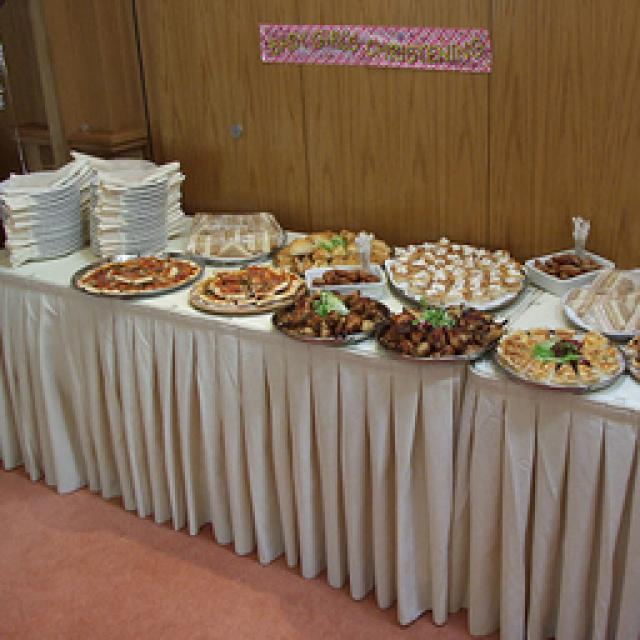floor -X: (2, 288, 635, 635)
food procesor: (385, 238, 518, 305), (495, 325, 615, 385), (378, 300, 495, 352), (192, 262, 300, 310), (275, 288, 382, 335), (75, 252, 195, 292), (188, 208, 278, 250), (535, 248, 598, 278), (312, 262, 372, 280)
napkin: (70, 145, 182, 252)
napkin rings- dishes: (2, 158, 92, 260)
table -X: (0, 205, 635, 635)
text: (258, 22, 488, 70)
